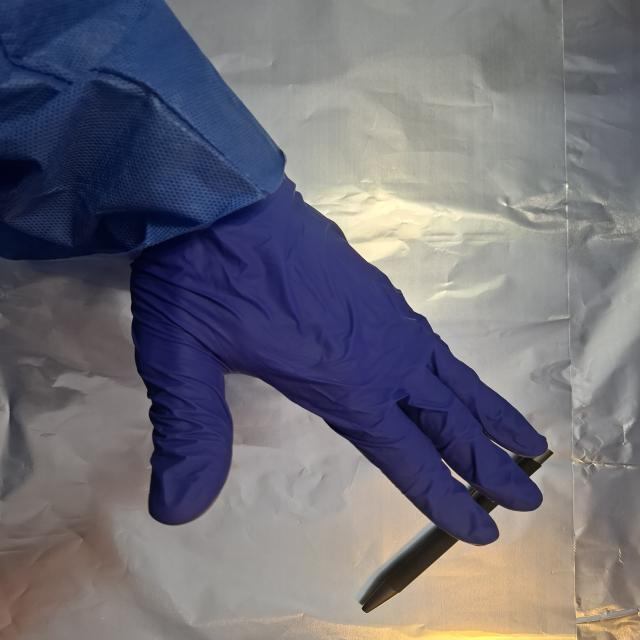glove_on: (123, 171, 551, 548)
